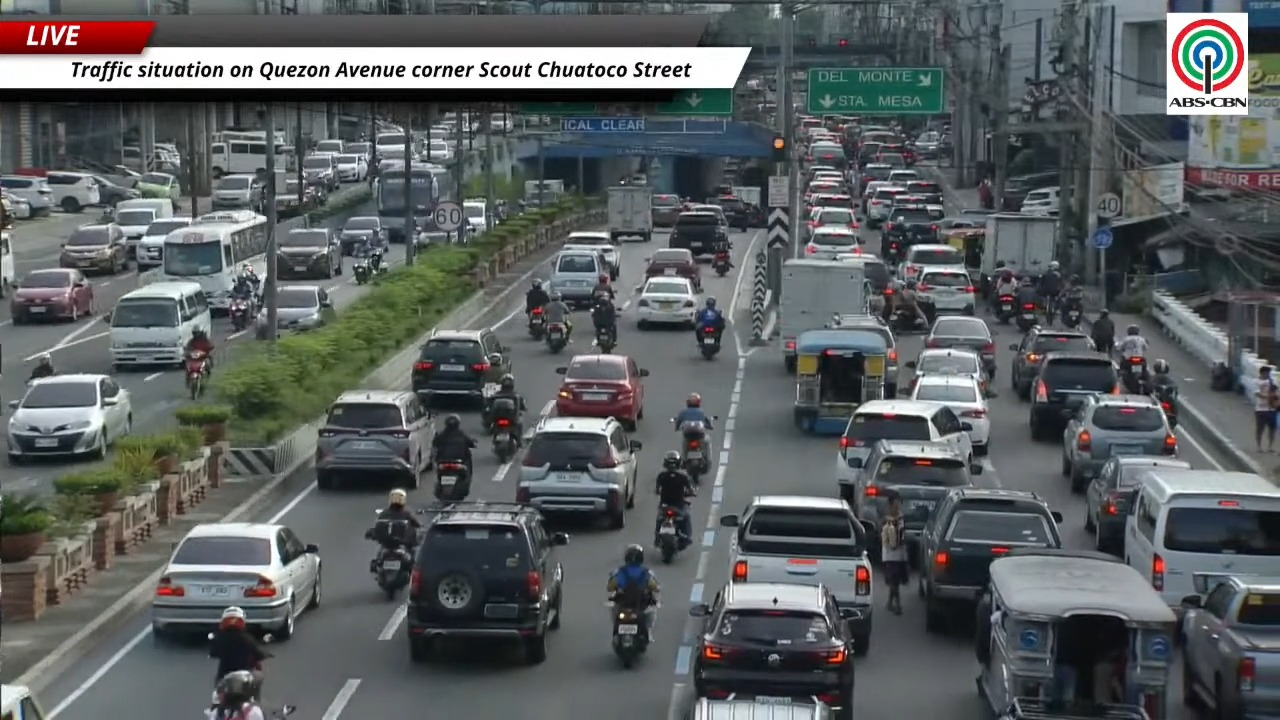bus: (156, 210, 268, 313), (375, 163, 452, 242), (210, 132, 266, 177), (0, 228, 15, 297), (210, 130, 266, 142)
car: (406, 502, 568, 663), (720, 496, 873, 654), (690, 582, 856, 719), (917, 487, 1061, 632), (151, 523, 321, 639), (854, 440, 981, 559), (1178, 571, 1279, 717), (835, 399, 973, 503), (516, 417, 641, 528), (316, 390, 434, 488), (1062, 394, 1177, 492), (7, 374, 132, 464), (1085, 455, 1191, 553), (1029, 351, 1119, 440), (411, 328, 511, 402), (555, 353, 648, 431), (910, 373, 990, 455), (1010, 326, 1095, 399), (830, 314, 898, 398), (10, 268, 93, 324), (924, 316, 996, 376), (832, 248, 893, 318), (684, 693, 833, 719), (905, 348, 989, 393), (58, 223, 127, 274), (549, 249, 608, 306), (277, 227, 342, 278), (635, 276, 697, 329), (135, 217, 191, 269), (916, 268, 977, 315), (276, 284, 335, 332), (562, 231, 619, 279), (882, 205, 939, 252), (668, 211, 727, 255), (644, 248, 702, 292), (899, 243, 966, 279), (44, 171, 100, 212), (0, 175, 53, 216), (211, 174, 264, 212), (275, 178, 326, 217), (338, 216, 387, 255), (804, 225, 860, 259), (135, 171, 180, 208), (890, 192, 944, 221), (867, 186, 905, 227), (93, 174, 140, 206), (302, 153, 339, 191), (709, 195, 748, 230), (937, 215, 984, 243), (808, 207, 859, 232), (857, 180, 892, 215), (1020, 186, 1060, 215), (808, 137, 846, 167), (937, 214, 985, 237), (858, 163, 892, 195), (880, 138, 918, 166), (462, 199, 493, 233), (690, 203, 728, 230), (651, 194, 681, 227), (857, 140, 891, 168), (0, 190, 32, 219), (906, 179, 942, 204), (807, 192, 852, 212), (336, 153, 367, 181), (805, 179, 843, 201), (804, 163, 842, 183), (812, 170, 847, 191), (875, 145, 906, 168), (888, 169, 920, 185)
motorcycle: (365, 526, 412, 599), (611, 600, 648, 668), (679, 422, 710, 484), (657, 505, 689, 563), (434, 461, 470, 502), (184, 351, 209, 400), (492, 417, 517, 464), (1152, 384, 1177, 427), (1122, 356, 1147, 393), (890, 308, 927, 333), (228, 298, 252, 331), (698, 327, 720, 359), (545, 323, 567, 353), (250, 662, 264, 702), (1016, 303, 1036, 331), (995, 295, 1015, 323), (528, 307, 544, 340), (595, 328, 615, 354), (1061, 304, 1082, 328), (1043, 296, 1059, 326), (712, 251, 730, 276), (353, 259, 370, 284), (884, 241, 900, 267), (271, 705, 295, 719)
truck: (1181, 571, 1279, 717), (778, 258, 868, 371), (980, 213, 1057, 287), (606, 185, 652, 242), (732, 187, 767, 227), (524, 179, 565, 207), (732, 186, 763, 207)
